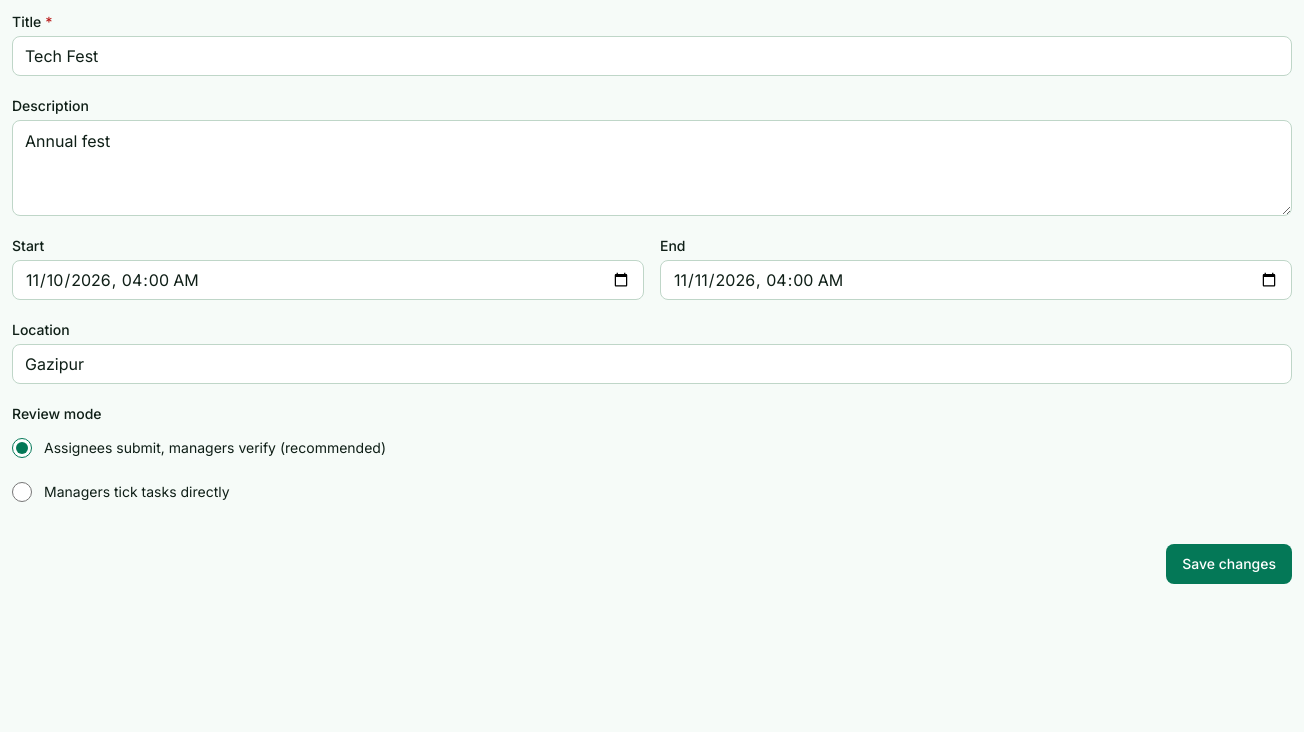
Test: EventSettingsForm › shows a server error under the form
Click the button "Save changes".
click(1229, 564)  # box [1166,544,1292,584]
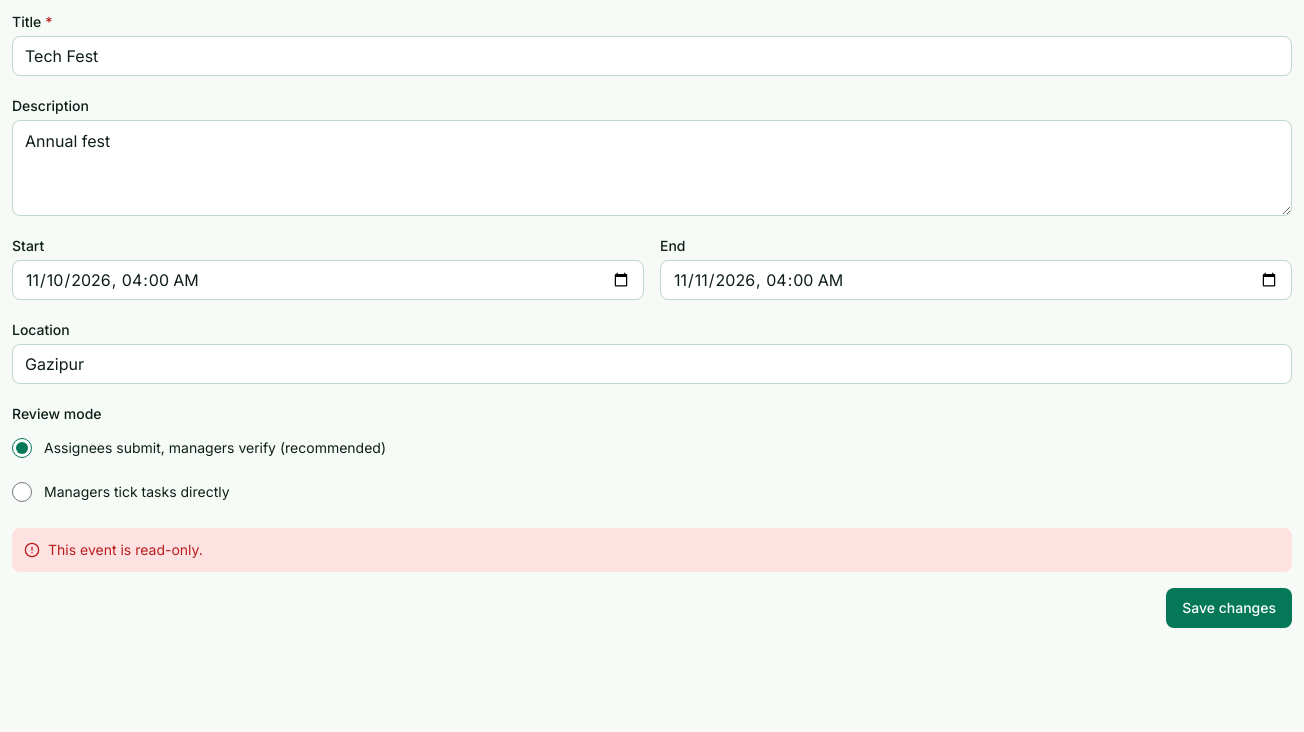
Expected: the text "This event is read-only." is shown, [12,528,1292,572]
